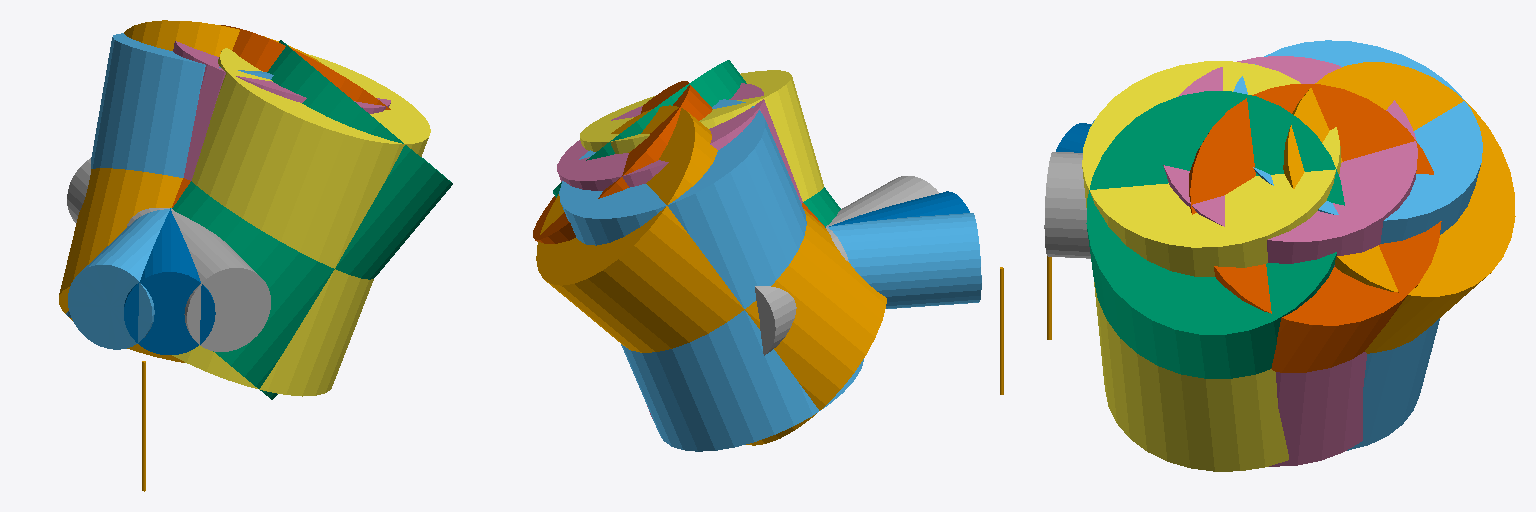
robot.urdf — pepe:
<?xml version="1.0"?><robot name="pepe">
	<link name="0">
		<visual>
			<geometry>
				<cylinder length="0.9381720897166075" radius="0.013475669429934056"/>
			</geometry>
		</visual>
		<collision>
			<geometry>
				<cylinder length="0.9381720897166075" radius="0.013475669429934056"/>
			</geometry>
		</collision>
		<inertial>
			<mass value="0.0005352209185260732"/>
			<inertia ixx="0.03" iyy="0.03" izz="0.03" ixy="0" ixz="0" iyx="0"/>
		</inertial>
	</link>
	<link name="11">
		<visual>
			<geometry>
				<cylinder length="1.9998" radius="0.30296414694860163"/>
			</geometry>
		</visual>
		<collision>
			<geometry>
				<cylinder length="1.9998" radius="0.30296414694860163"/>
			</geometry>
		</collision>
		<inertial>
			<mass value="0.5766587818505141"/>
			<inertia ixx="0.03" iyy="0.03" izz="0.03" ixy="0" ixz="0" iyx="0"/>
		</inertial>
	</link>
	<link name="22">
		<visual>
			<geometry>
				<cylinder length="1.8595427222716863" radius="0.7433750627749042"/>
			</geometry>
		</visual>
		<collision>
			<geometry>
				<cylinder length="1.8595427222716863" radius="0.7433750627749042"/>
			</geometry>
		</collision>
		<inertial>
			<mass value="3.2282860511798206"/>
			<inertia ixx="0.03" iyy="0.03" izz="0.03" ixy="0" ixz="0" iyx="0"/>
		</inertial>
	</link>
	<link name="23">
		<visual>
			<geometry>
				<cylinder length="1.8595427222716863" radius="0.7433750627749042"/>
			</geometry>
		</visual>
		<collision>
			<geometry>
				<cylinder length="1.8595427222716863" radius="0.7433750627749042"/>
			</geometry>
		</collision>
		<inertial>
			<mass value="3.2282860511798206"/>
			<inertia ixx="0.03" iyy="0.03" izz="0.03" ixy="0" ixz="0" iyx="0"/>
		</inertial>
	</link>
	<link name="14">
		<visual>
			<geometry>
				<cylinder length="1.9998" radius="0.30296414694860163"/>
			</geometry>
		</visual>
		<collision>
			<geometry>
				<cylinder length="1.9998" radius="0.30296414694860163"/>
			</geometry>
		</collision>
		<inertial>
			<mass value="0.5766587818505141"/>
			<inertia ixx="0.03" iyy="0.03" izz="0.03" ixy="0" ixz="0" iyx="0"/>
		</inertial>
	</link>
	<link name="25">
		<visual>
			<geometry>
				<cylinder length="1.8595427222716863" radius="0.7433750627749042"/>
			</geometry>
		</visual>
		<collision>
			<geometry>
				<cylinder length="1.8595427222716863" radius="0.7433750627749042"/>
			</geometry>
		</collision>
		<inertial>
			<mass value="3.2282860511798206"/>
			<inertia ixx="0.03" iyy="0.03" izz="0.03" ixy="0" ixz="0" iyx="0"/>
		</inertial>
	</link>
	<link name="26">
		<visual>
			<geometry>
				<cylinder length="1.8595427222716863" radius="0.7433750627749042"/>
			</geometry>
		</visual>
		<collision>
			<geometry>
				<cylinder length="1.8595427222716863" radius="0.7433750627749042"/>
			</geometry>
		</collision>
		<inertial>
			<mass value="3.2282860511798206"/>
			<inertia ixx="0.03" iyy="0.03" izz="0.03" ixy="0" ixz="0" iyx="0"/>
		</inertial>
	</link>
	<link name="17">
		<visual>
			<geometry>
				<cylinder length="1.9998" radius="0.30296414694860163"/>
			</geometry>
		</visual>
		<collision>
			<geometry>
				<cylinder length="1.9998" radius="0.30296414694860163"/>
			</geometry>
		</collision>
		<inertial>
			<mass value="0.5766587818505141"/>
			<inertia ixx="0.03" iyy="0.03" izz="0.03" ixy="0" ixz="0" iyx="0"/>
		</inertial>
	</link>
	<link name="28">
		<visual>
			<geometry>
				<cylinder length="1.8595427222716863" radius="0.7433750627749042"/>
			</geometry>
		</visual>
		<collision>
			<geometry>
				<cylinder length="1.8595427222716863" radius="0.7433750627749042"/>
			</geometry>
		</collision>
		<inertial>
			<mass value="3.2282860511798206"/>
			<inertia ixx="0.03" iyy="0.03" izz="0.03" ixy="0" ixz="0" iyx="0"/>
		</inertial>
	</link>
	<link name="29">
		<visual>
			<geometry>
				<cylinder length="1.8595427222716863" radius="0.7433750627749042"/>
			</geometry>
		</visual>
		<collision>
			<geometry>
				<cylinder length="1.8595427222716863" radius="0.7433750627749042"/>
			</geometry>
		</collision>
		<inertial>
			<mass value="3.2282860511798206"/>
			<inertia ixx="0.03" iyy="0.03" izz="0.03" ixy="0" ixz="0" iyx="0"/>
		</inertial>
	</link>
	<joint name="11_to_0" type="revolute">
		<parent link="0"/>
		<child link="11"/>
		<axis xyz="0 1 0"/>
		<limit effort="1" upper="-3.1415" lower="3.1415" velocity="1"/>
		<origin rpy="0.807573855891796 4.683347017410434 2.980499914733988" xyz="0.7663280101222387 0.9998075477301875 0.6921642020725619"/>
	</joint>
	<joint name="22_to_11" type="revolute">
		<parent link="11"/>
		<child link="22"/>
		<axis xyz="1 0 0"/>
		<limit effort="1" upper="-3.1415" lower="3.1415" velocity="1"/>
		<origin rpy="7.142903172760466 2.5200024369906013 4.808233477592328" xyz="0.061604790670041765 0.49469393602746736 0.6454871615493817"/>
	</joint>
	<joint name="23_to_11" type="revolute">
		<parent link="11"/>
		<child link="23"/>
		<axis xyz="1 0 0"/>
		<limit effort="1" upper="-3.1415" lower="3.1415" velocity="1"/>
		<origin rpy="10.714354759140699 2.5200024369906013 4.808233477592328" xyz="0.061604790670041765 0.49469393602746736 0.6454871615493817"/>
	</joint>
	<joint name="14_to_0" type="revolute">
		<parent link="0"/>
		<child link="14"/>
		<axis xyz="0 1 0"/>
		<limit effort="1" upper="-3.1415" lower="3.1415" velocity="1"/>
		<origin rpy="1.2113607838376939 4.683347017410434 2.980499914733988" xyz="0.7663280101222387 0.9998075477301875 0.6921642020725619"/>
	</joint>
	<joint name="25_to_14" type="revolute">
		<parent link="14"/>
		<child link="25"/>
		<axis xyz="1 0 0"/>
		<limit effort="1" upper="-3.1415" lower="3.1415" velocity="1"/>
		<origin rpy="7.142903172760466 2.5200024369906013 4.808233477592328" xyz="0.061604790670041765 0.49469393602746736 0.6454871615493817"/>
	</joint>
	<joint name="26_to_14" type="revolute">
		<parent link="14"/>
		<child link="26"/>
		<axis xyz="1 0 0"/>
		<limit effort="1" upper="-3.1415" lower="3.1415" velocity="1"/>
		<origin rpy="10.714354759140699 2.5200024369906013 4.808233477592328" xyz="0.061604790670041765 0.49469393602746736 0.6454871615493817"/>
	</joint>
	<joint name="17_to_0" type="revolute">
		<parent link="0"/>
		<child link="17"/>
		<axis xyz="0 1 0"/>
		<limit effort="1" upper="-3.1415" lower="3.1415" velocity="1"/>
		<origin rpy="1.615147711783592 4.683347017410434 2.980499914733988" xyz="0.7663280101222387 0.9998075477301875 0.6921642020725619"/>
	</joint>
	<joint name="28_to_17" type="revolute">
		<parent link="17"/>
		<child link="28"/>
		<axis xyz="1 0 0"/>
		<limit effort="1" upper="-3.1415" lower="3.1415" velocity="1"/>
		<origin rpy="7.142903172760466 2.5200024369906013 4.808233477592328" xyz="0.061604790670041765 0.49469393602746736 0.6454871615493817"/>
	</joint>
	<joint name="29_to_17" type="revolute">
		<parent link="17"/>
		<child link="29"/>
		<axis xyz="1 0 0"/>
		<limit effort="1" upper="-3.1415" lower="3.1415" velocity="1"/>
		<origin rpy="10.714354759140699 2.5200024369906013 4.808233477592328" xyz="0.061604790670041765 0.49469393602746736 0.6454871615493817"/>
	</joint>
</robot>

--- What the picture shows (computed from the rendered views, not written in the file) ---
The picture shows the robot from 3 angles, left to right: view 1: azimuth 30°, elevation 25°; view 2: azimuth 150°, elevation 25°; view 3: azimuth 270°, elevation 25°; orthographic projection.
Robot: pepe — 10 links, 9 joints (9 revolute); root link 0; default pose: every joint at zero.
Links seen in each view (by area): view 1: 23, 22, 29, 28, 17, 11, 14, 26, 25; view 2: 29, 28, 11, 23, 26, 17, 25, 22, 14; view 3: 23, 22, 25, 26, 28, 29, 17, 14.
Link boxes in pixels (x1,y1,x2,y2): 23: (172, 48, 430, 396); 22: (172, 40, 452, 399); 29: (66, 33, 273, 317); 28: (59, 20, 323, 362); 17: (67, 158, 270, 351); 11: (68, 208, 171, 349); 14: (124, 208, 215, 354); 26: (173, 41, 390, 180); 25: (172, 25, 390, 207); 29: (559, 99, 863, 451); 28: (536, 105, 886, 445); 11: (828, 213, 981, 308); 23: (580, 70, 823, 201); 26: (557, 83, 802, 418); 17: (755, 176, 938, 355); 25: (533, 81, 824, 243); 22: (553, 60, 840, 226); 14: (825, 191, 969, 227); 23: (1082, 61, 1340, 471); 22: (1086, 91, 1344, 378); 25: (1189, 84, 1441, 372); 26: (1163, 56, 1417, 466); 28: (1283, 62, 1515, 353); 29: (1233, 40, 1482, 450); 17: (1044, 152, 1090, 258); 14: (1056, 123, 1091, 152).
Bounding box of the posed robot: 2.98 × 2.7 × 2.39 m (x, y, z).
Geometry: primitives only (box / cylinder / sphere), no mesh files.
